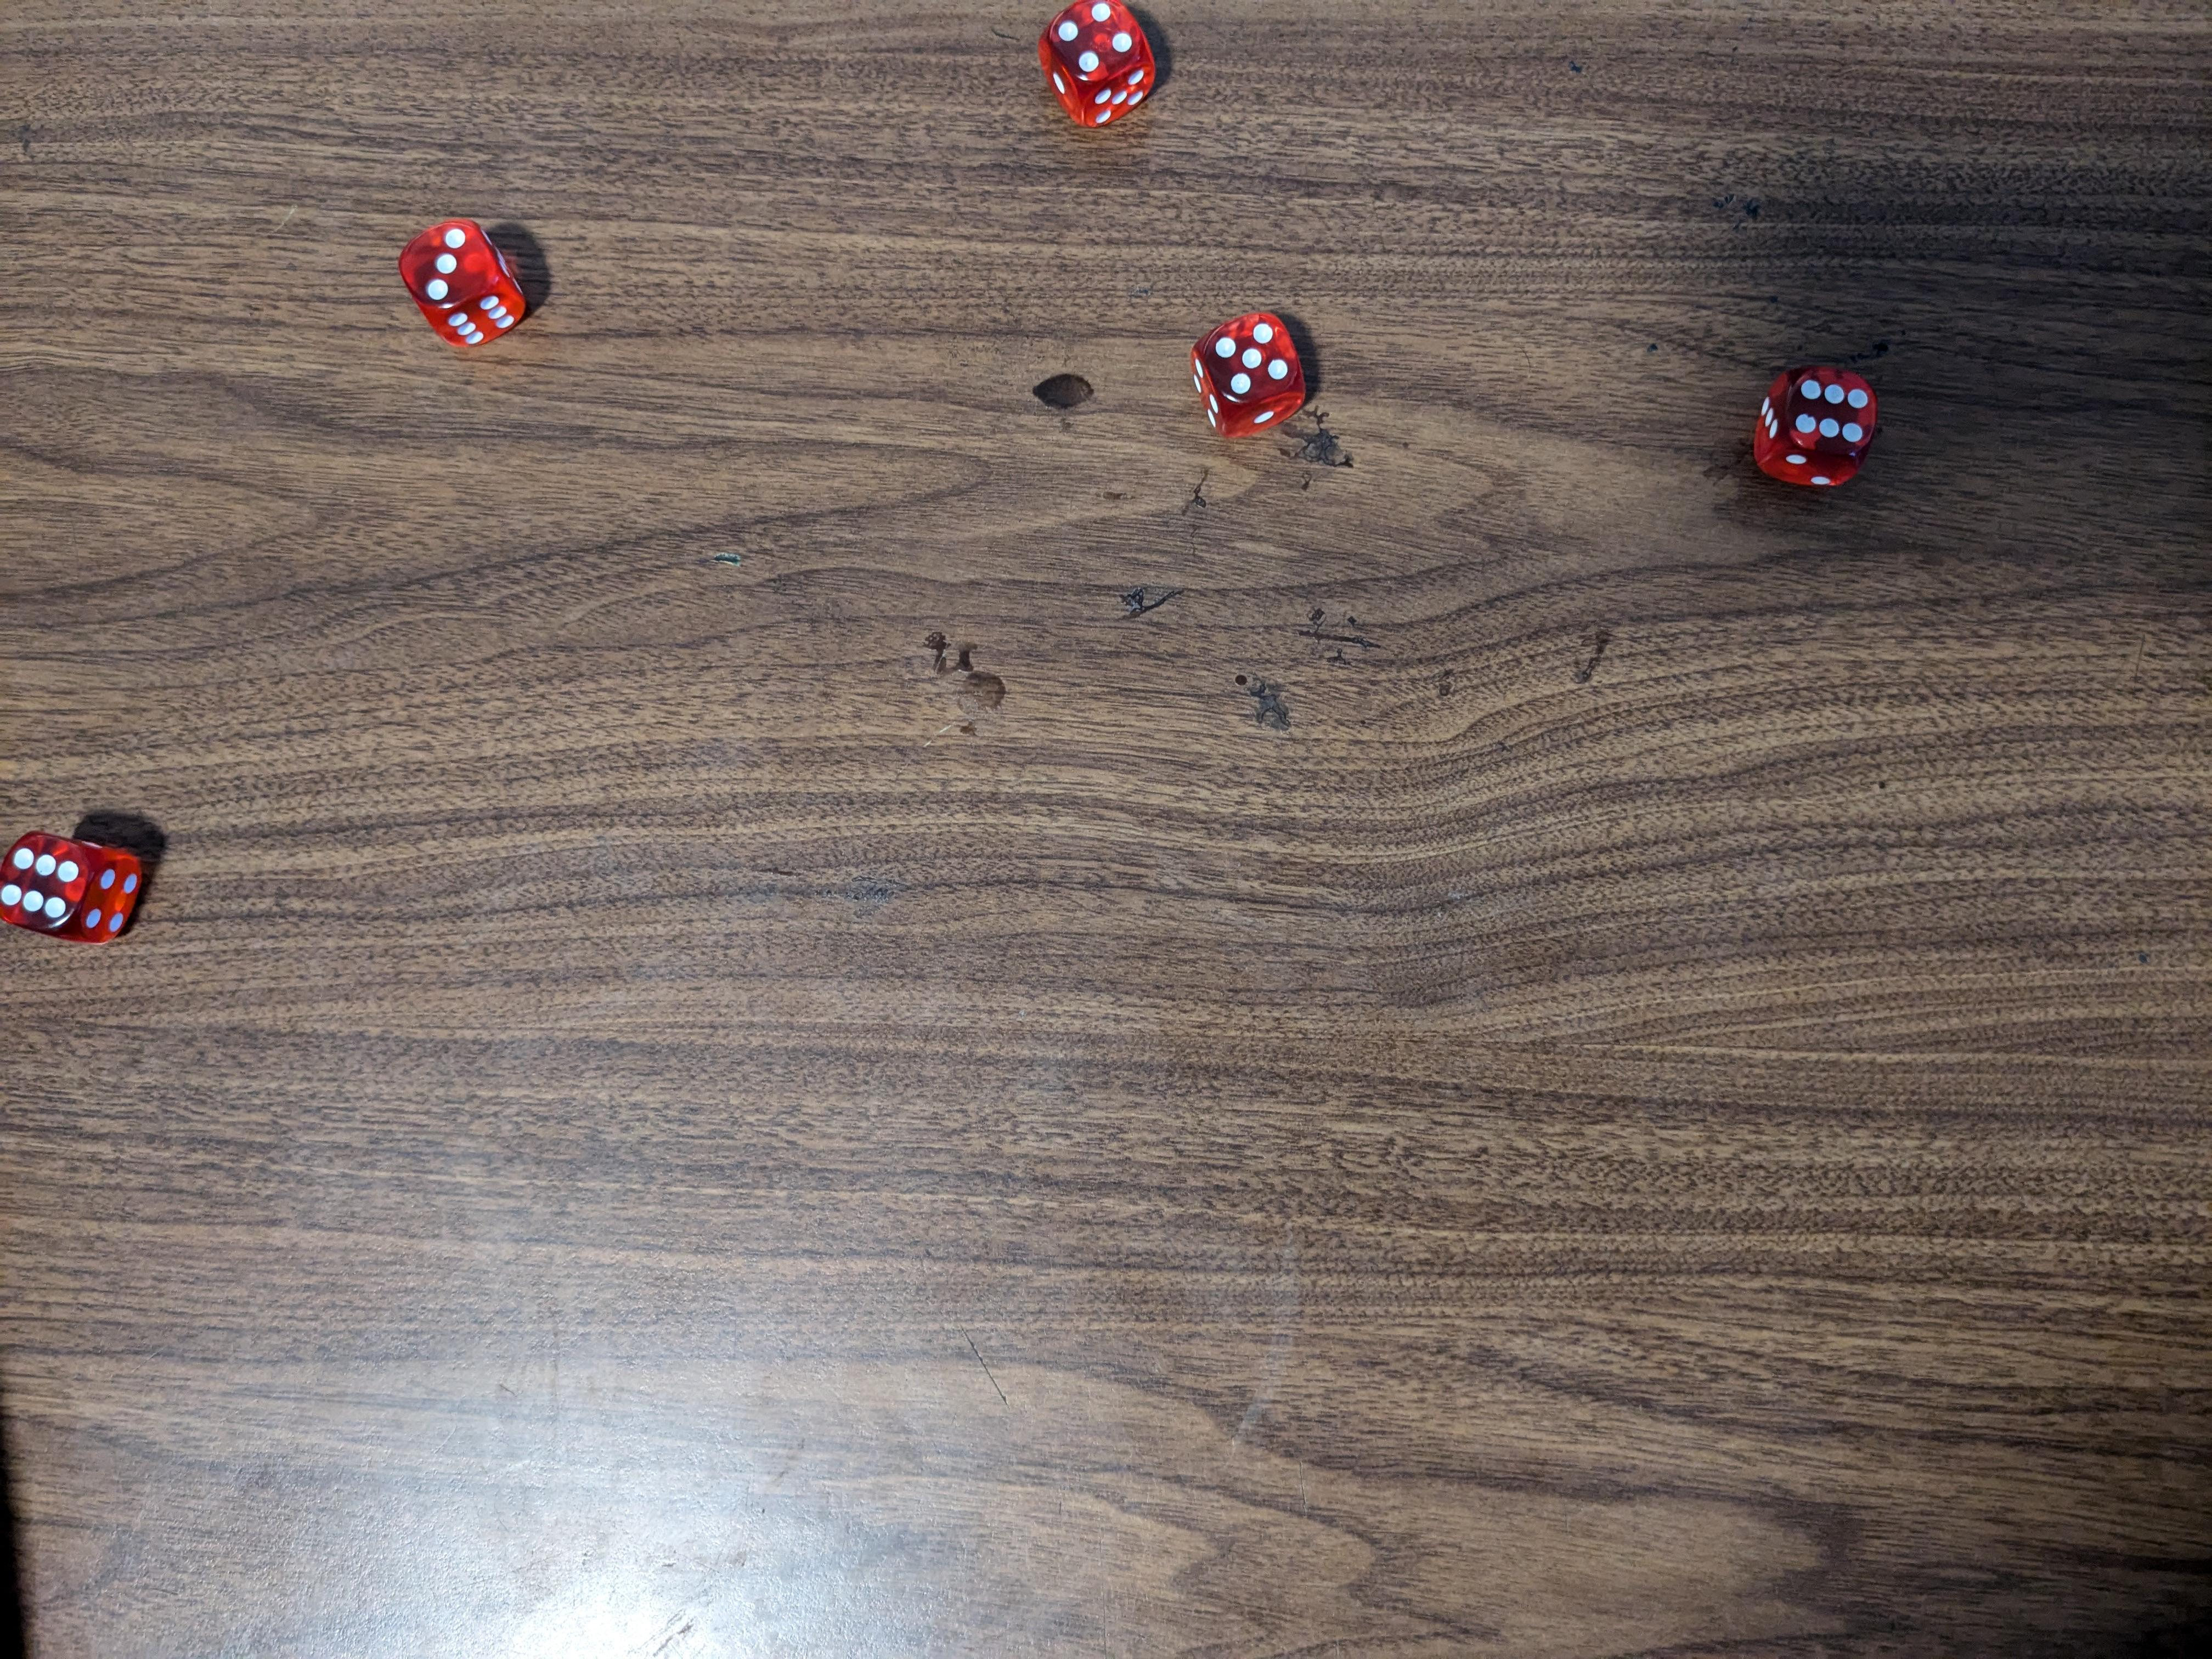five: (1186, 308, 1310, 441)
four: (1038, 0, 1163, 131)
six: (2, 830, 157, 946), (1752, 362, 1876, 491)
three: (394, 216, 531, 356)
